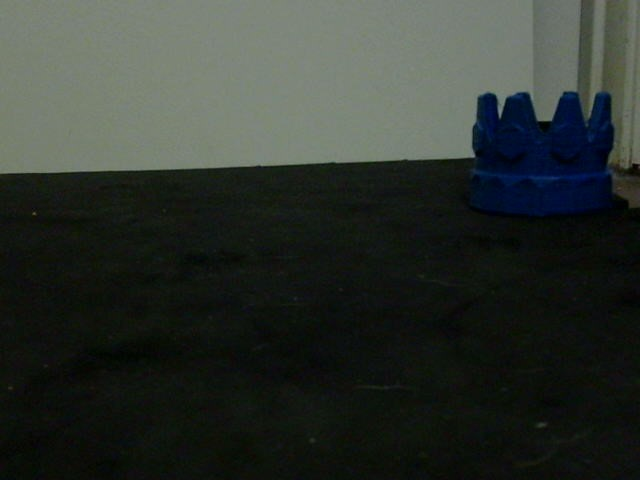crown: (466, 89, 617, 216)
